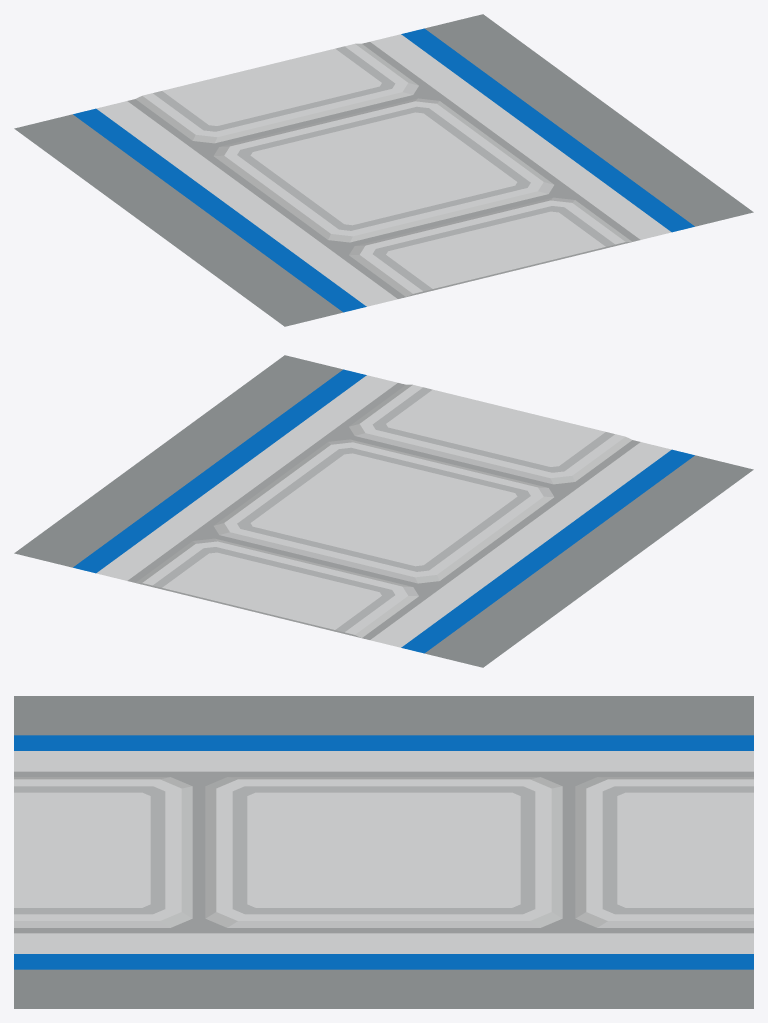
File: Floor_type_A_026_001.glb
The picture shows the model from 3 angles, top to bottom: view 1: azimuth 30°, elevation 25°; view 2: azimuth 150°, elevation 25°; view 3: azimuth 270°, elevation 25°; orthographic projection. The views are drawn at different scales.
Parts seen in each view (by area): view 1: Floor_type_A_026.001; view 2: Floor_type_A_026.001; view 3: Floor_type_A_026.001.
Part boxes in pixels (bbox=[...]): Floor_type_A_026.001: bbox=[14, 14, 753, 326]; Floor_type_A_026.001: bbox=[14, 355, 753, 667]; Floor_type_A_026.001: bbox=[14, 696, 753, 1008].
Bounding box in the file's own units: 4 × 0.0134 × 4.
2 materials, 2 textured.
